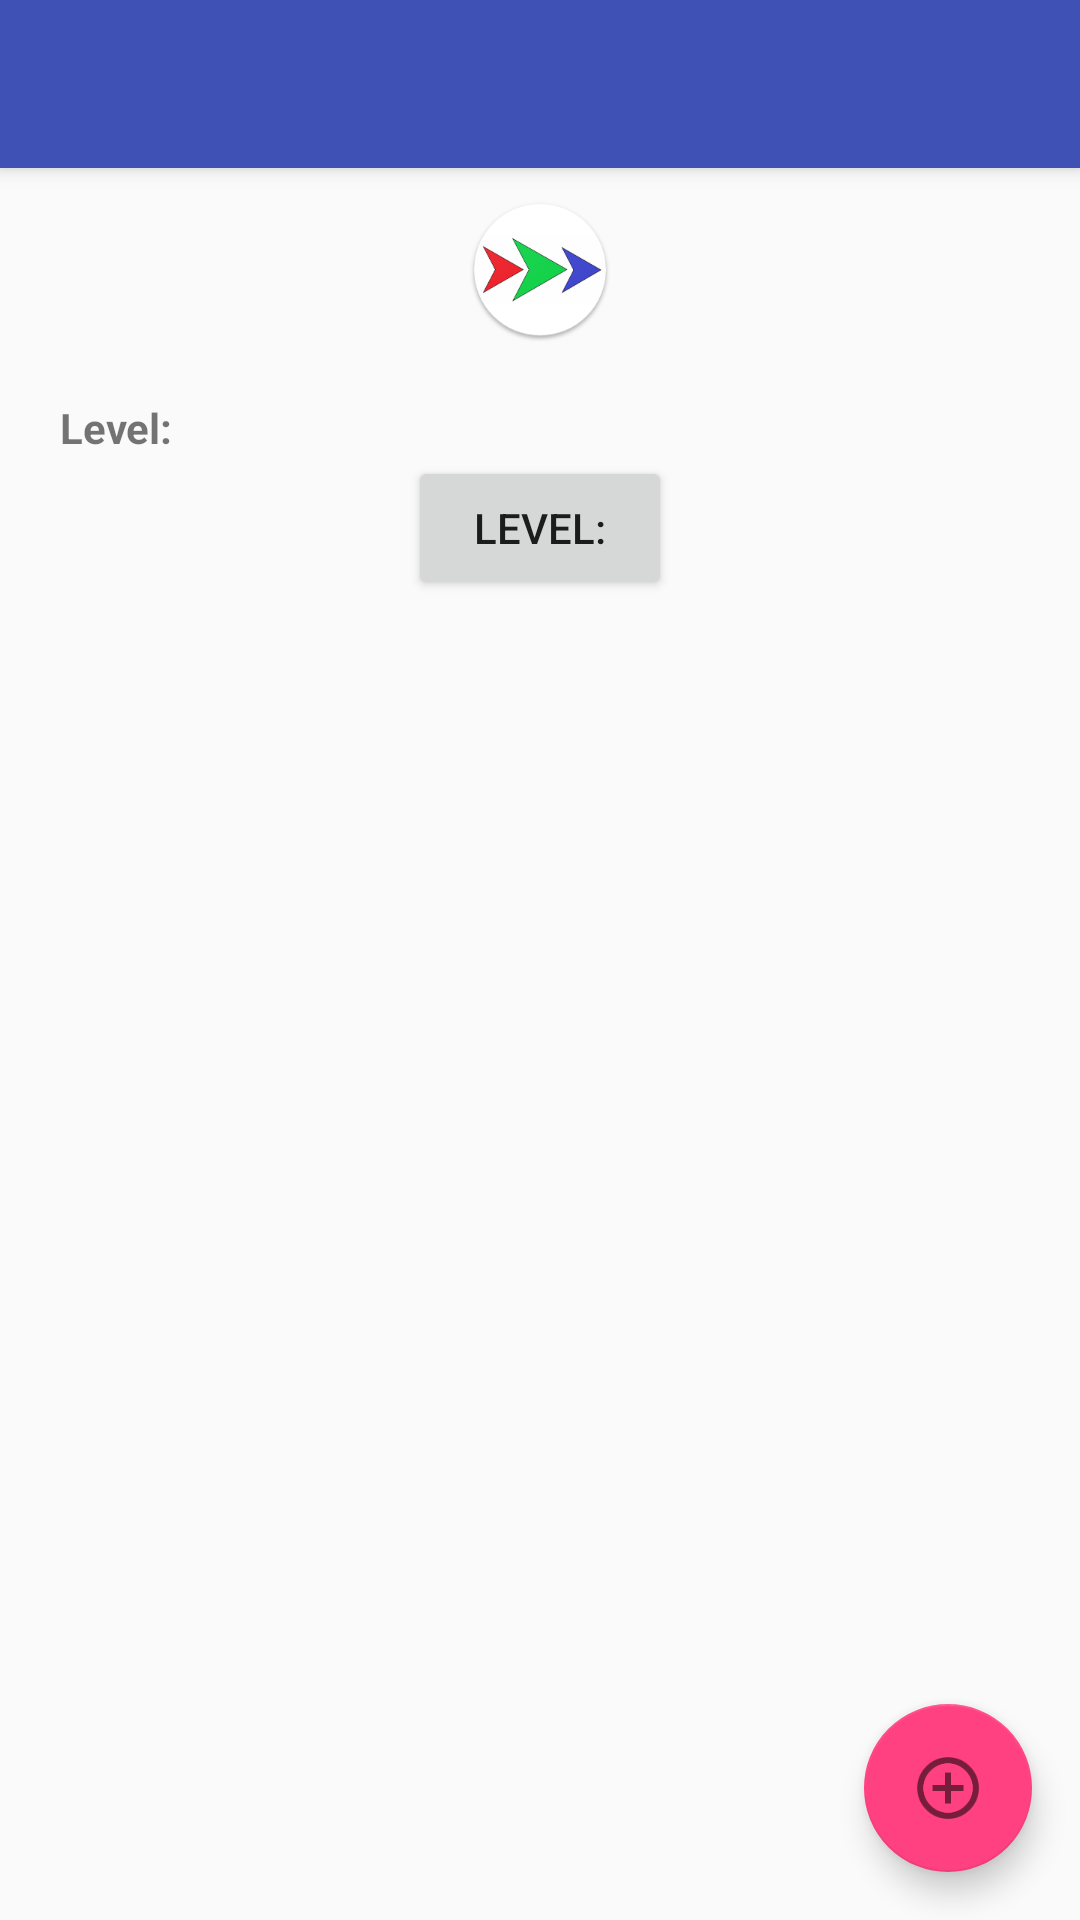

Point at icon controls on the screen. Image size 1080 x 1920, points as [x,y].
add circle: [948,1788]
